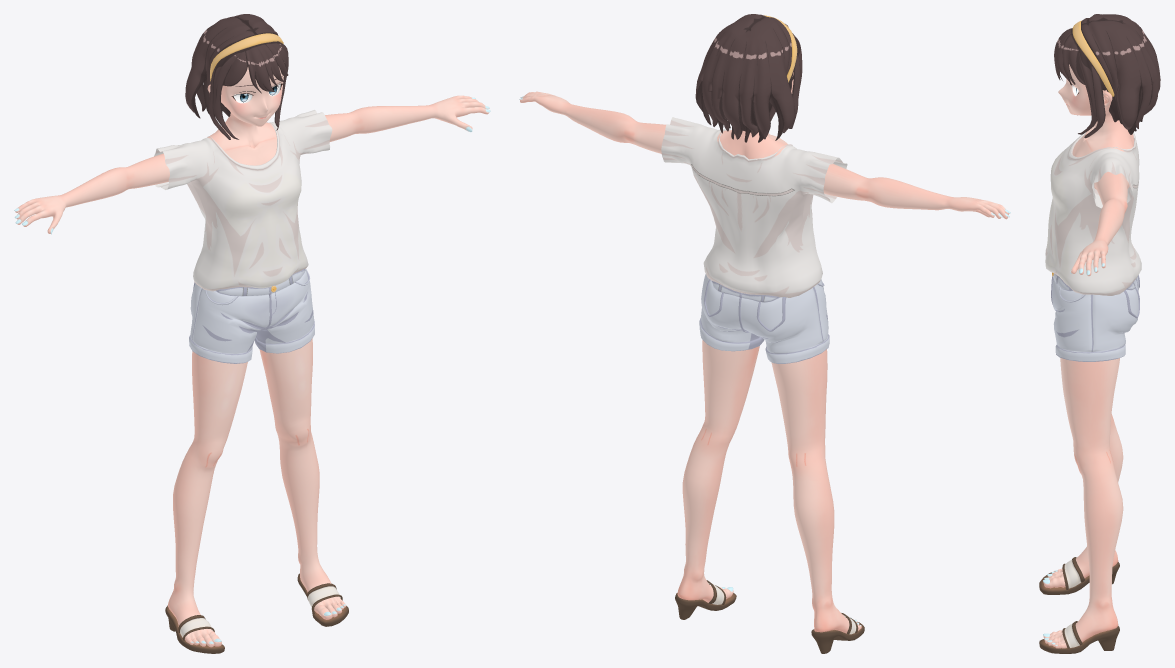
File: lunari2.glb
The picture shows the model from 3 angles, left to right: view 1: azimuth 30°, elevation 25°; view 2: azimuth 150°, elevation 25°; view 3: azimuth 270°, elevation 25°; orthographic projection. The views are drawn at different scales.
Visible parts, largest first — view 1: Body.001, T-Shirt, Jean shorts, Hair, Low-heeled mules, Headband; view 2: Body.001, T-Shirt, Hair, Jean shorts, Low-heeled mules; view 3: Body.001, T-Shirt, Hair, Jean shorts, Low-heeled mules, Headband.
Boxes of the visible parts, <box> form: Body.001: <box>14,66,490,647</box>; T-Shirt: <box>154,110,332,291</box>; Jean shorts: <box>189,269,314,363</box>; Hair: <box>185,14,288,139</box>; Low-heeled mules: <box>165,573,348,653</box>; Headband: <box>210,33,283,81</box>; Body.001: <box>519,72,1010,633</box>; T-Shirt: <box>661,117,847,297</box>; Hair: <box>695,14,802,142</box>; Jean shorts: <box>699,274,829,363</box>; Low-heeled mules: <box>675,580,864,653</box>; Body.001: <box>1043,64,1134,648</box>; T-Shirt: <box>1045,132,1141,295</box>; Hair: <box>1054,14,1160,138</box>; Jean shorts: <box>1051,272,1139,361</box>; Low-heeled mules: <box>1039,557,1119,653</box>; Headband: <box>1072,20,1114,96</box>.
Bounding box in the file's own units: 6.65 × 8.01 × 1.46.
Materials: 4 (3 with a texture image).
